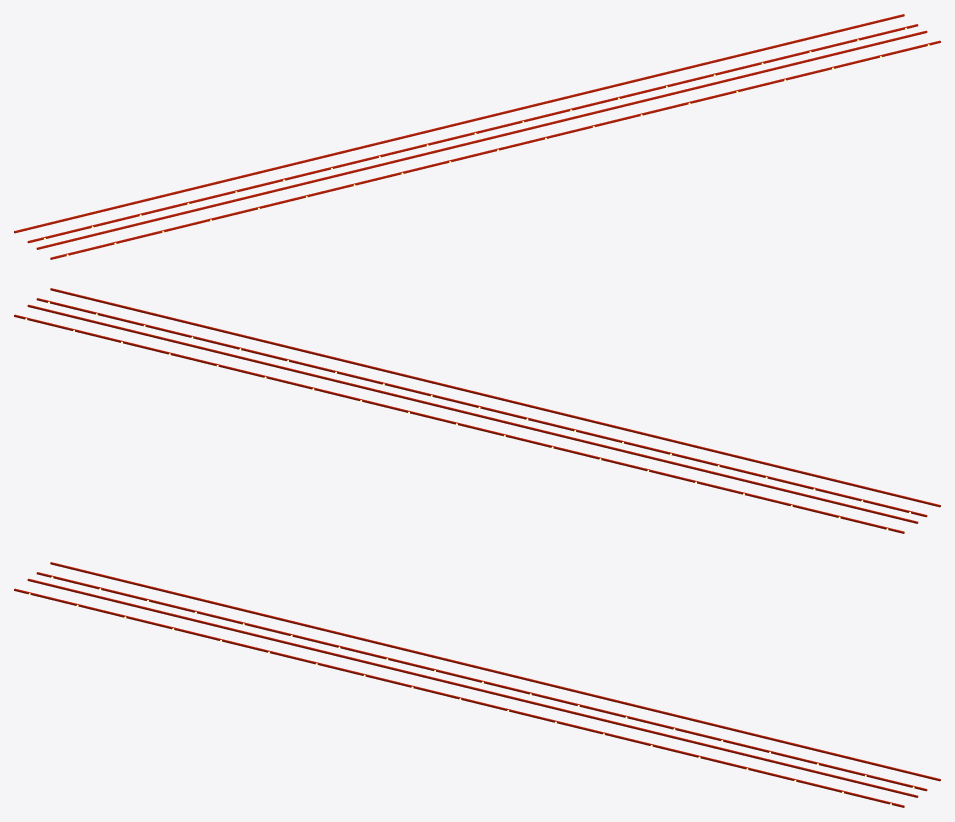
The model's file is stange.glb.
3 views of the same model, one above another, from view 1: azimuth 30°, elevation 25°; view 2: azimuth 150°, elevation 25°; view 3: azimuth 330°, elevation 25° (orthographic).
Parts seen in each view (by area): view 1: Cube.002; view 2: Cube.002; view 3: Cube.002.
Part boxes in pixels (x1,y1,x2,y2): Cube.002: (14,14,940,259); Cube.002: (14,288,940,533); Cube.002: (14,562,940,807).
Bounding box in the file's own units: 68.04 × 0.1402 × 5.22.
